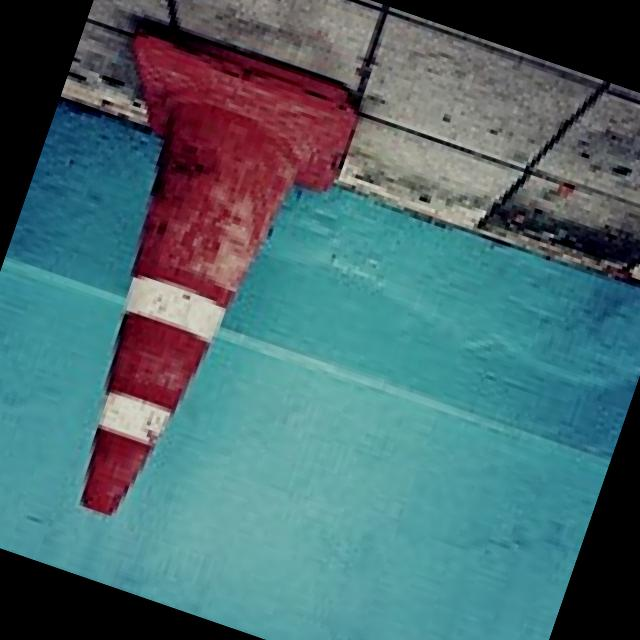cone: (0, 5, 387, 595)
